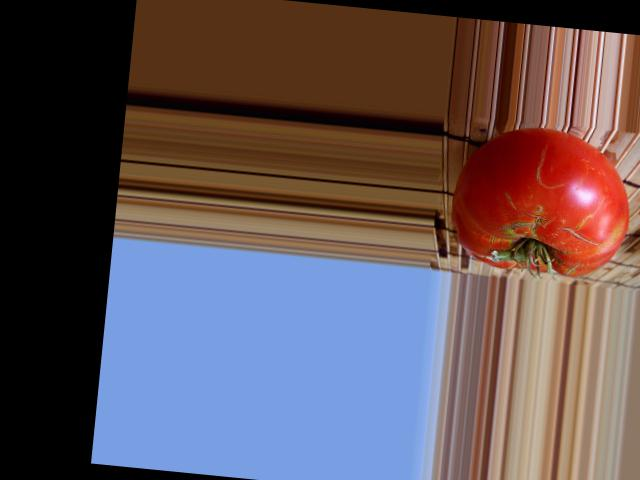tomato: (446, 122, 636, 281)
